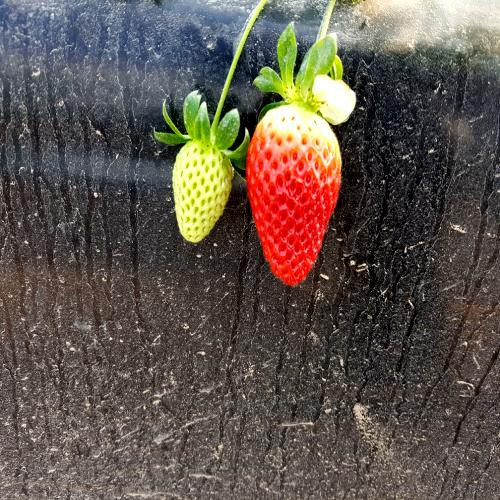ripe: (256, 90, 344, 286)
unripe: (175, 127, 228, 241)
